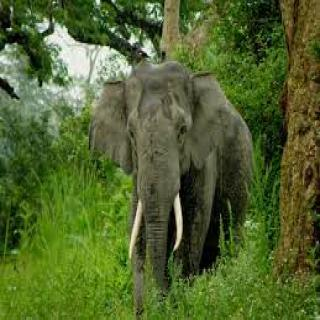Elephant: (86, 59, 255, 320)
